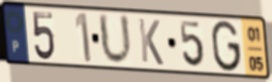1: (74, 10, 93, 65)
5: (179, 20, 206, 69), (31, 9, 56, 61)
G: (210, 18, 243, 74)
K: (137, 16, 165, 67)
U: (97, 11, 135, 68)
